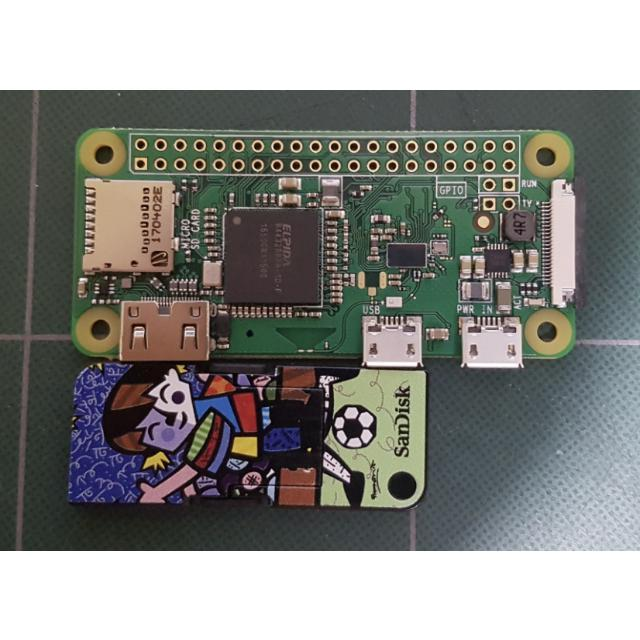Raspberry-Pi-Zero-W: (72, 130, 575, 369)
